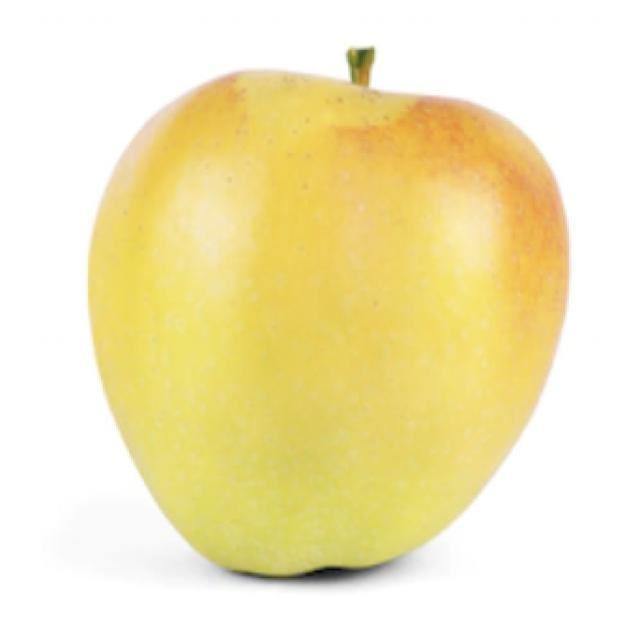Fresh Apple: (97, 70, 568, 573)
